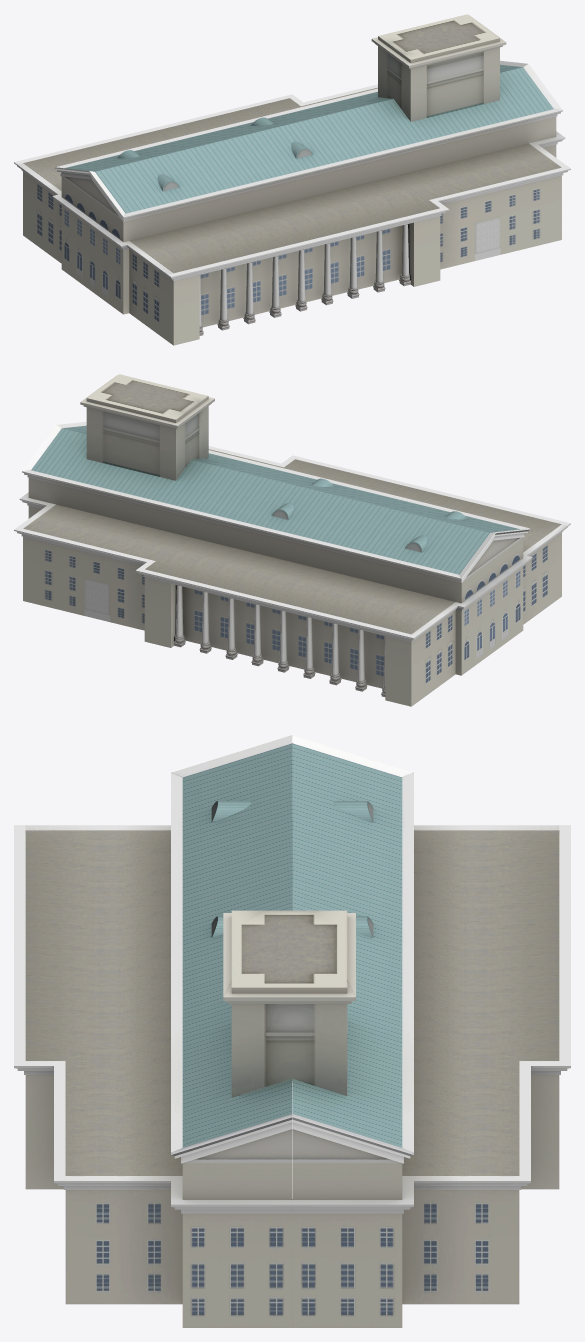
File: drm.glb
3 views of the same model, one above another, from view 1: azimuth 30°, elevation 25°; view 2: azimuth 150°, elevation 25°; view 3: azimuth 270°, elevation 25° (orthographic). The views are drawn at different scales.
Visible parts, largest first — view 1: drm; view 2: drm; view 3: drm.
Boxes of the visible parts, <box> form: drm: <box>14,14,570,345</box>; drm: <box>14,374,570,706</box>; drm: <box>14,735,570,1327</box>.
Bounding box in the file's own units: 67.29 × 24.76 × 41.21.
2 materials, 2 textured.
